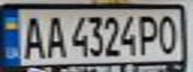2: (103, 12, 121, 57)
3: (87, 12, 106, 59)
4: (66, 12, 87, 59), (118, 11, 139, 56)
A: (18, 12, 48, 60), (42, 11, 69, 58)
O: (154, 11, 181, 55)
P: (136, 11, 163, 55)
